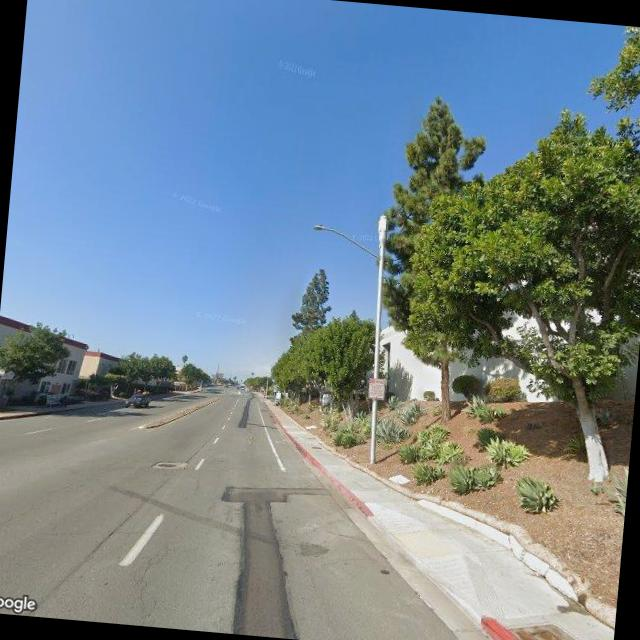pothole: (132, 540, 169, 602)
